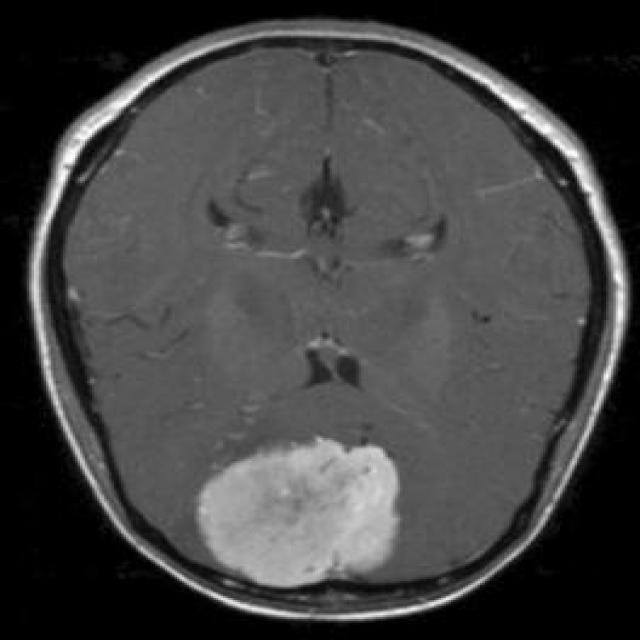Tumor: (186, 433, 418, 589)
